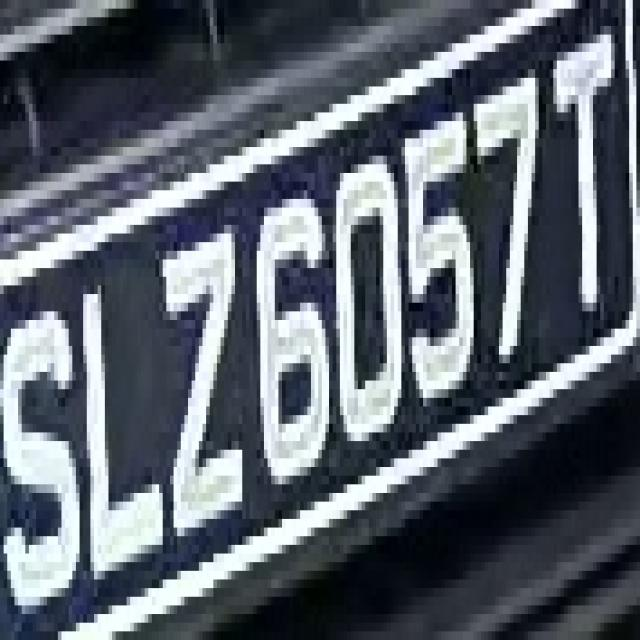0: (318, 130, 405, 484)
5: (398, 104, 477, 424)
6: (246, 156, 333, 510)
7: (462, 43, 550, 381)
L: (69, 286, 166, 580)
S: (7, 260, 80, 614)
T: (535, 9, 629, 337)
Z: (148, 225, 257, 579)
